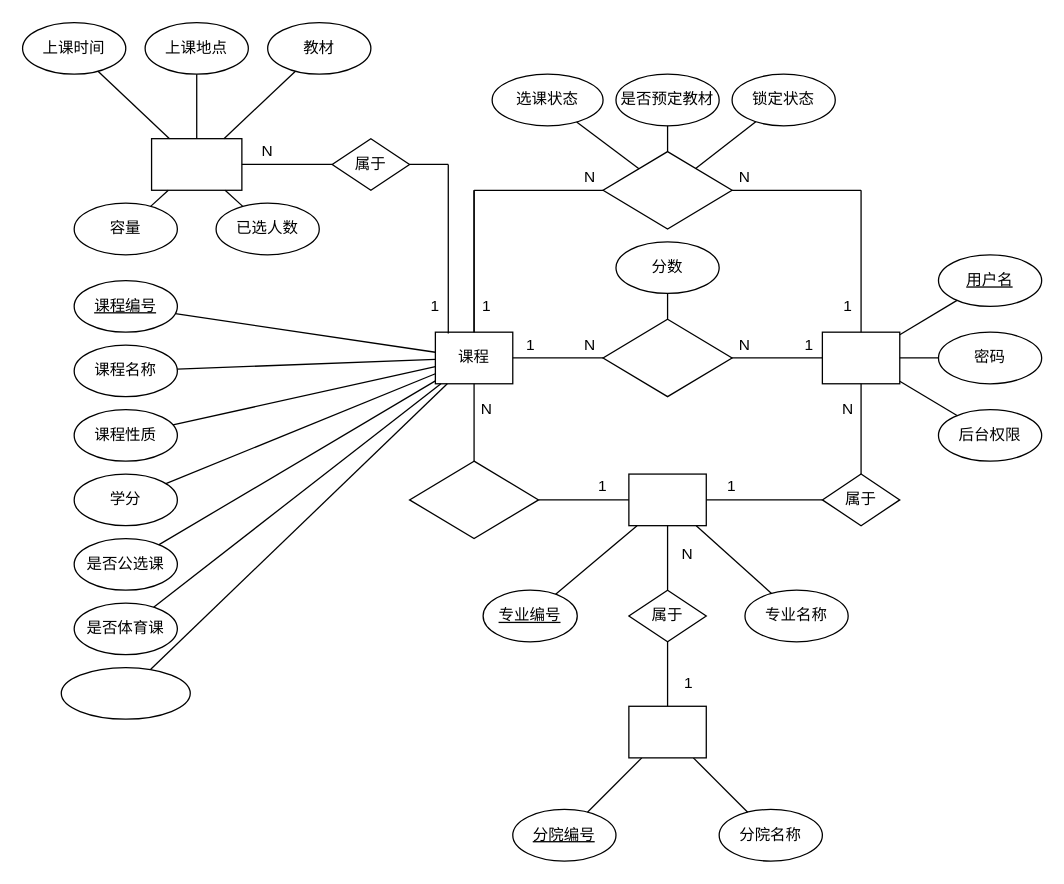
Some shapes in this 1064 by 884 pixel diagram are drawn without their labels. The shapes that lost their labels are listed below. From the top down, each one's centre as x and y in pixels, then its label:
At point 196,163: "教学班".
At point 667,189: "仓库内课程".
At point 667,357: "已完成课程".
At point 860,357: "用户".
At point 473,499: "计划内课程".
At point 667,499: "专业".
At point 125,692: "是否英语拓展课".
At point 667,731: "分院".
